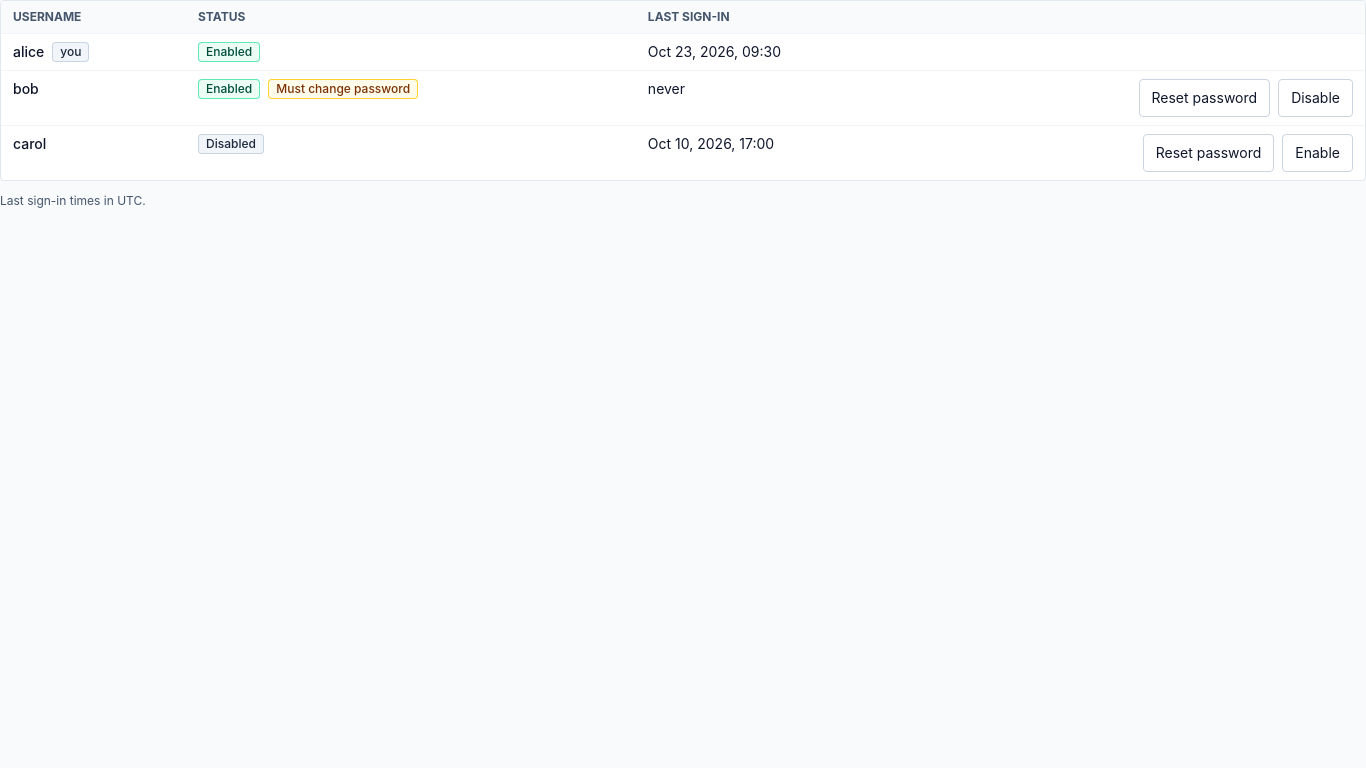
Test case: OperatorsTable: disable › closes with Cancel or Escape without disabling, and gives the focus back
Click the button with aria-label "Disable bob". click: [1316, 98]
box: [1278, 79, 1353, 117]
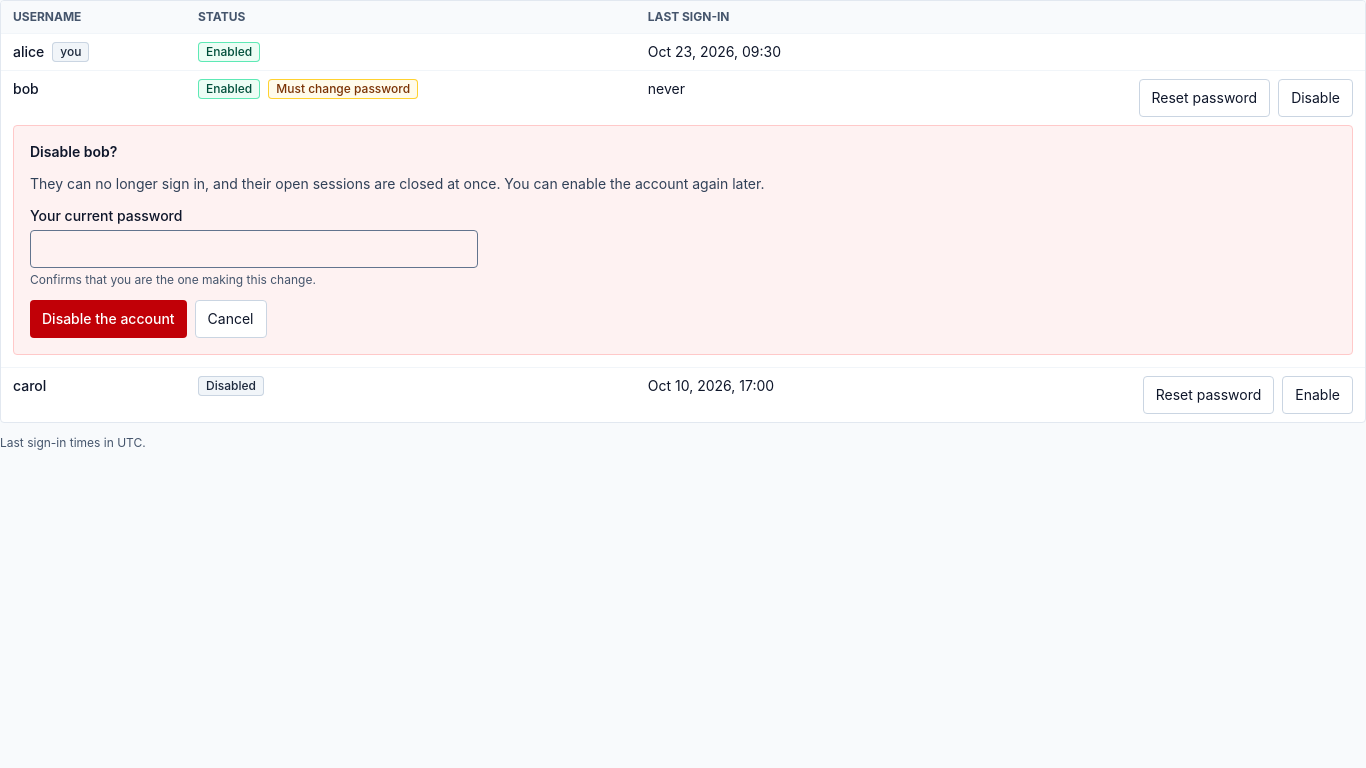
Click the button "Cancel". click: [231, 319]
box: [195, 300, 266, 338]
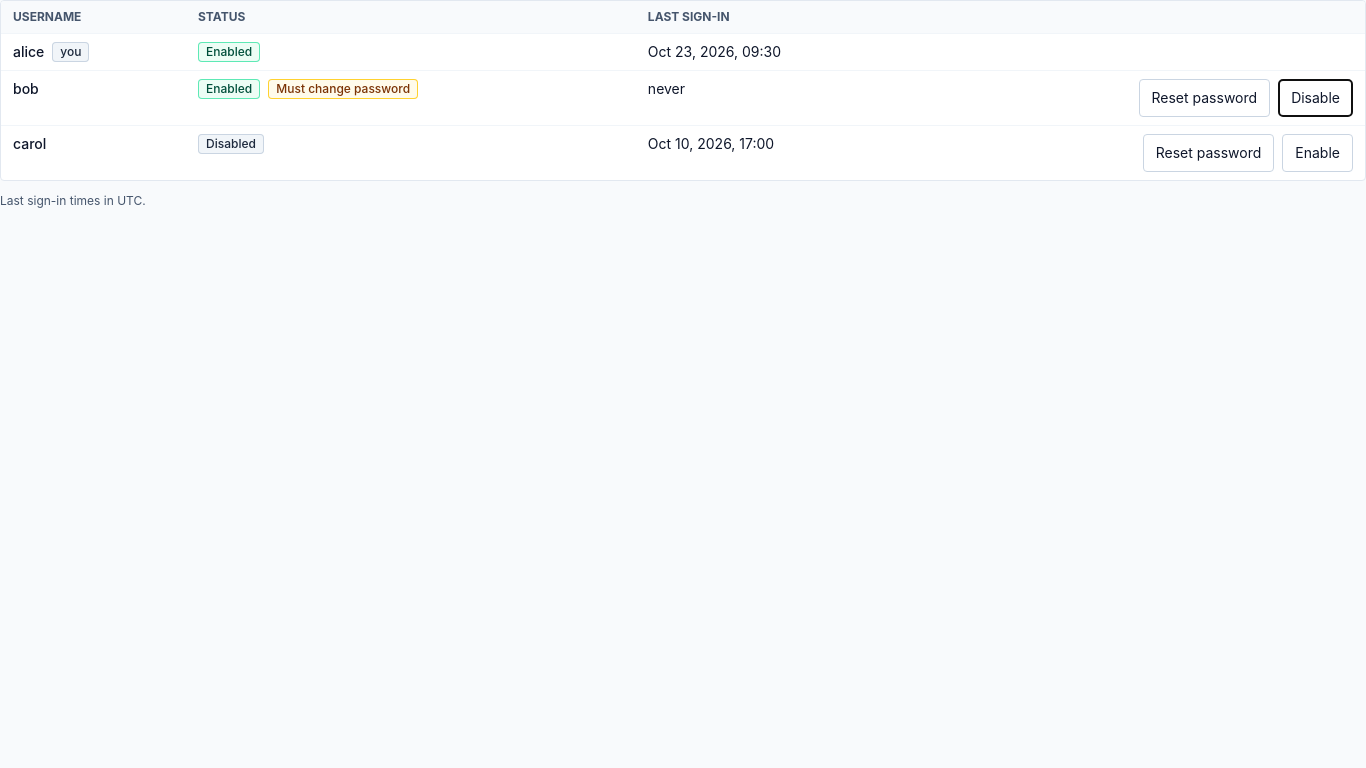
Check: the dialog is gone
Click the button with aria-label "Disable bob". click: [1316, 98]
box: [1278, 79, 1353, 117]
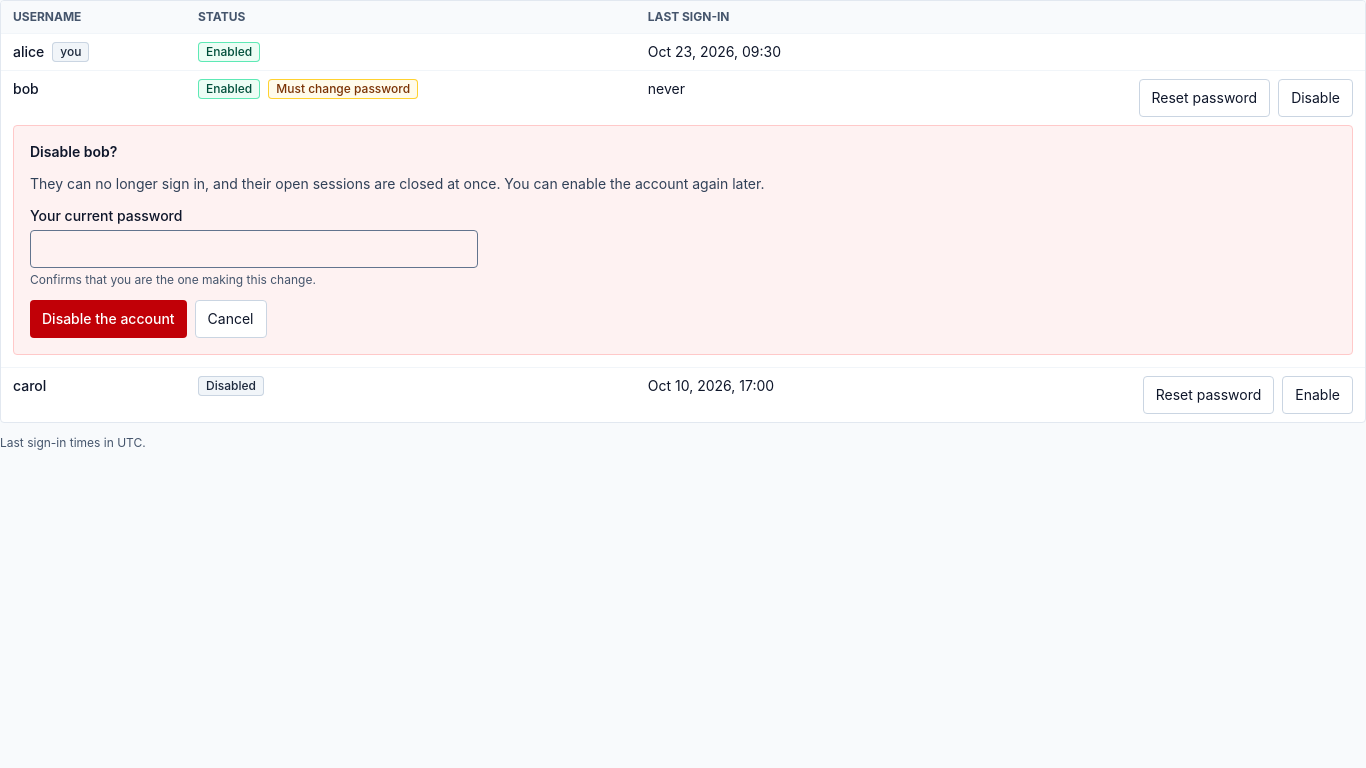
Press Escape in the dialog, box [13, 125, 1353, 355]
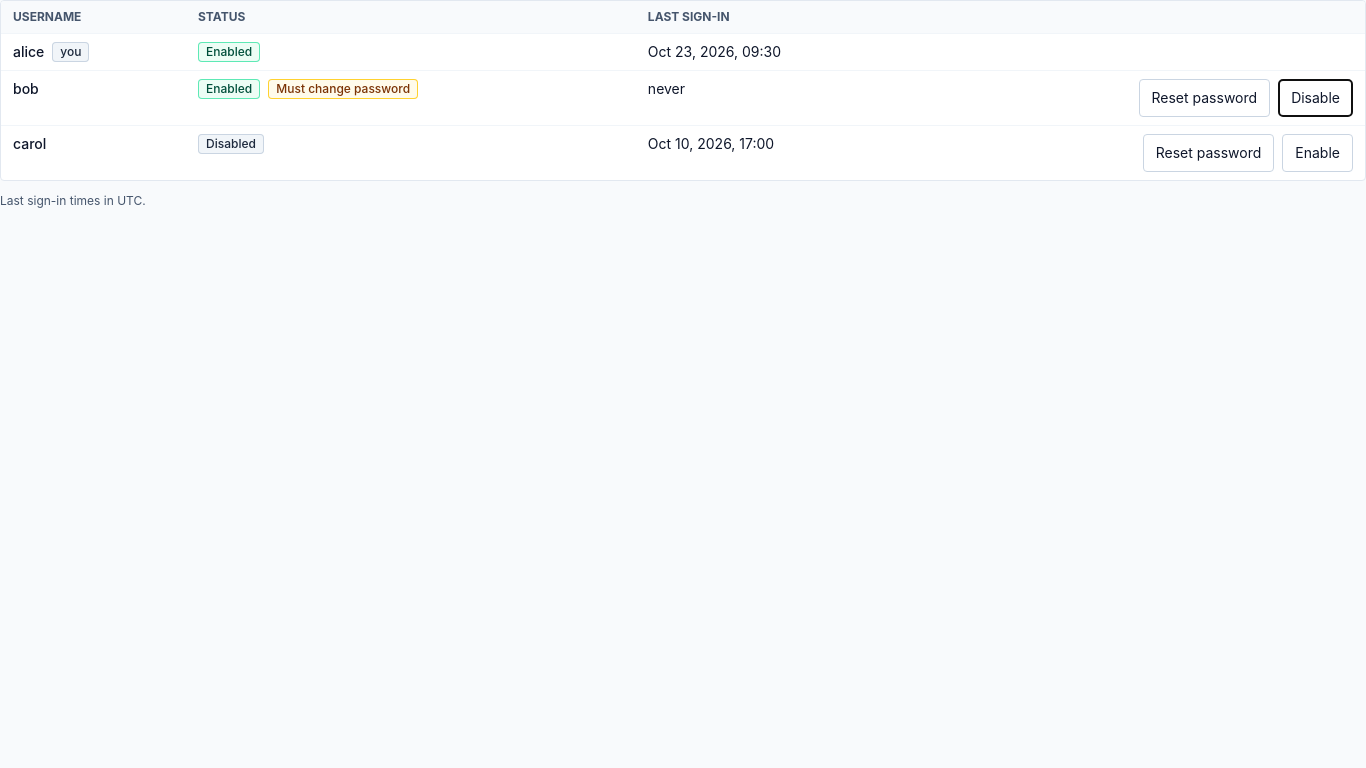
Check: the dialog is gone
